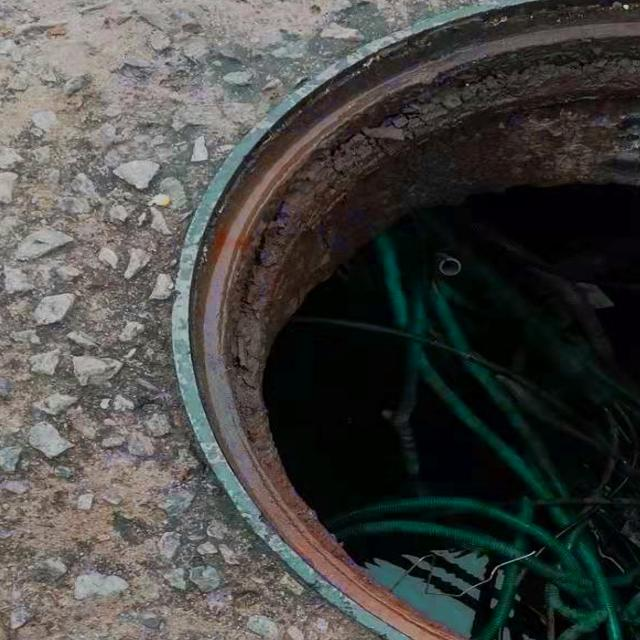lose: (174, 0, 640, 640)
